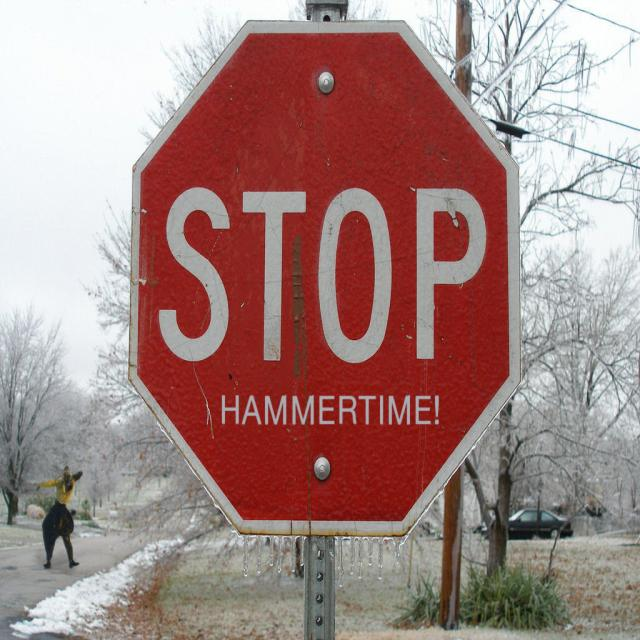Stop-sign: (127, 16, 522, 538)
